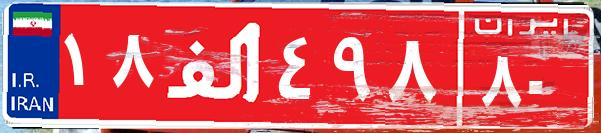0: (525, 38, 570, 115)
1: (57, 26, 110, 107)
4: (273, 28, 330, 110)
8: (385, 28, 445, 110), (475, 38, 525, 113), (110, 28, 158, 105)
9: (330, 28, 385, 110)
الف: (158, 15, 273, 115)
